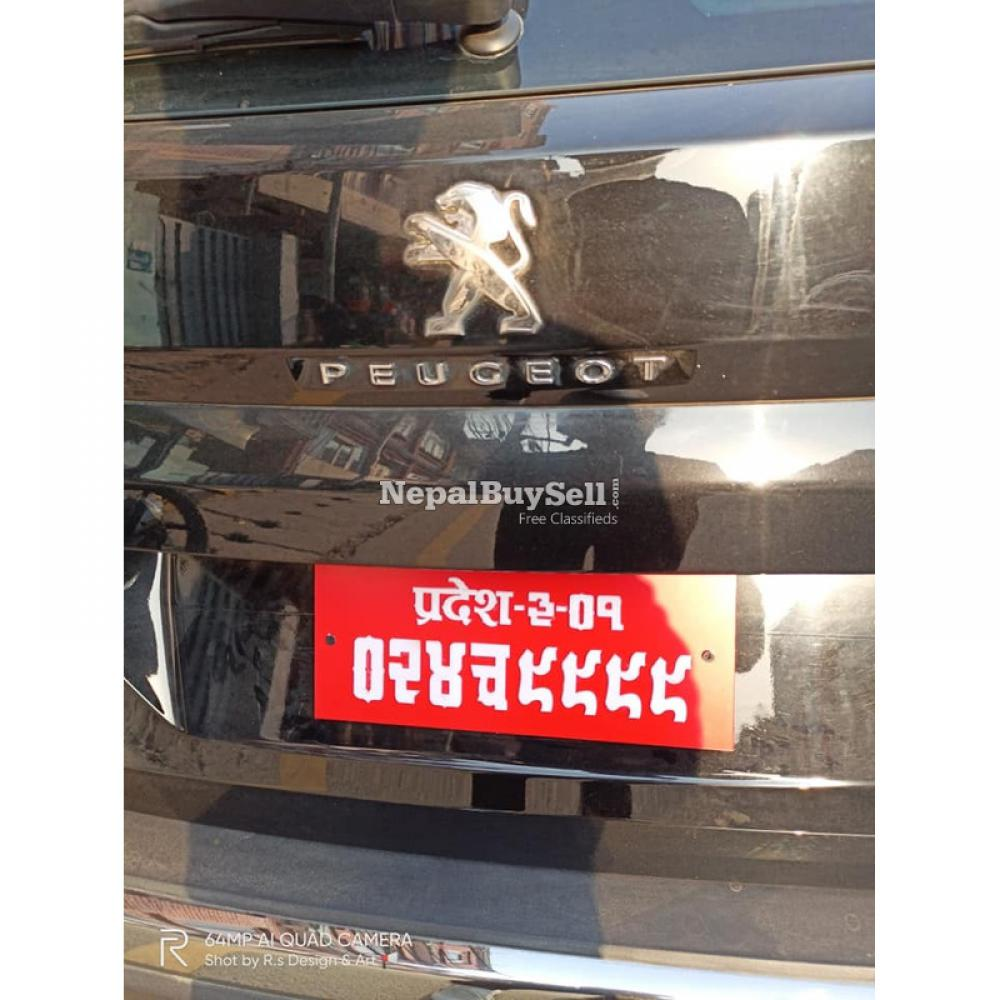number plate: (306, 560, 744, 759)
